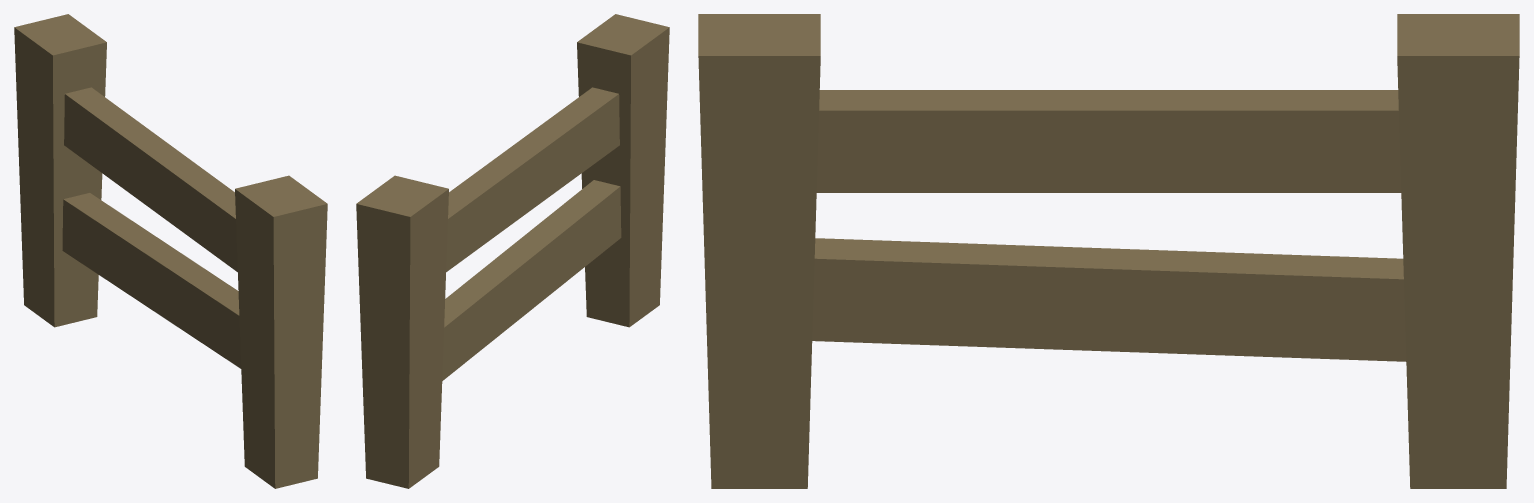
Rendered from Fence 1.fbx.
3 renders of one model, left to right at view 1: azimuth 30°, elevation 25°; view 2: azimuth 150°, elevation 25°; view 3: azimuth 270°, elevation 25°, orthographic. The views are drawn at different scales.
Parts seen in each view (by area): view 1: pCube16; view 2: pCube16; view 3: pCube16.
Part boxes in pixels (box(x1,y1,x2,y2)): pCube16: box(14, 14, 327, 488); pCube16: box(356, 14, 669, 488); pCube16: box(698, 14, 1519, 488).
Size of the model in its own units: 3.67 by 17.88 by 30.42.
